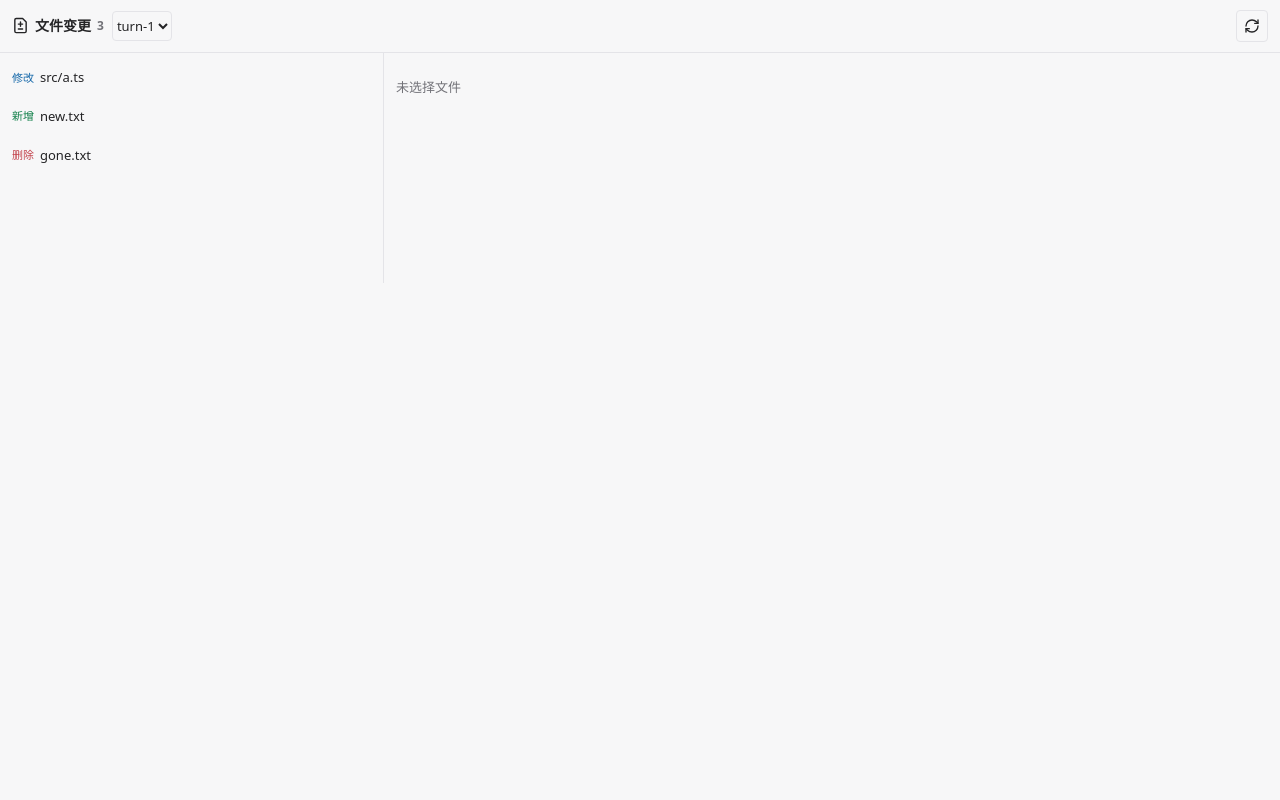
Test case: FileReview › requires explicit per-file confirmation, supports cancel, and sends immutable hash
This screenshot has width=1280, height=800.
Step 1. Click the button "修改 src/a.ts" → click(62, 77), box top-left (6, 59), bottom-right (377, 96)
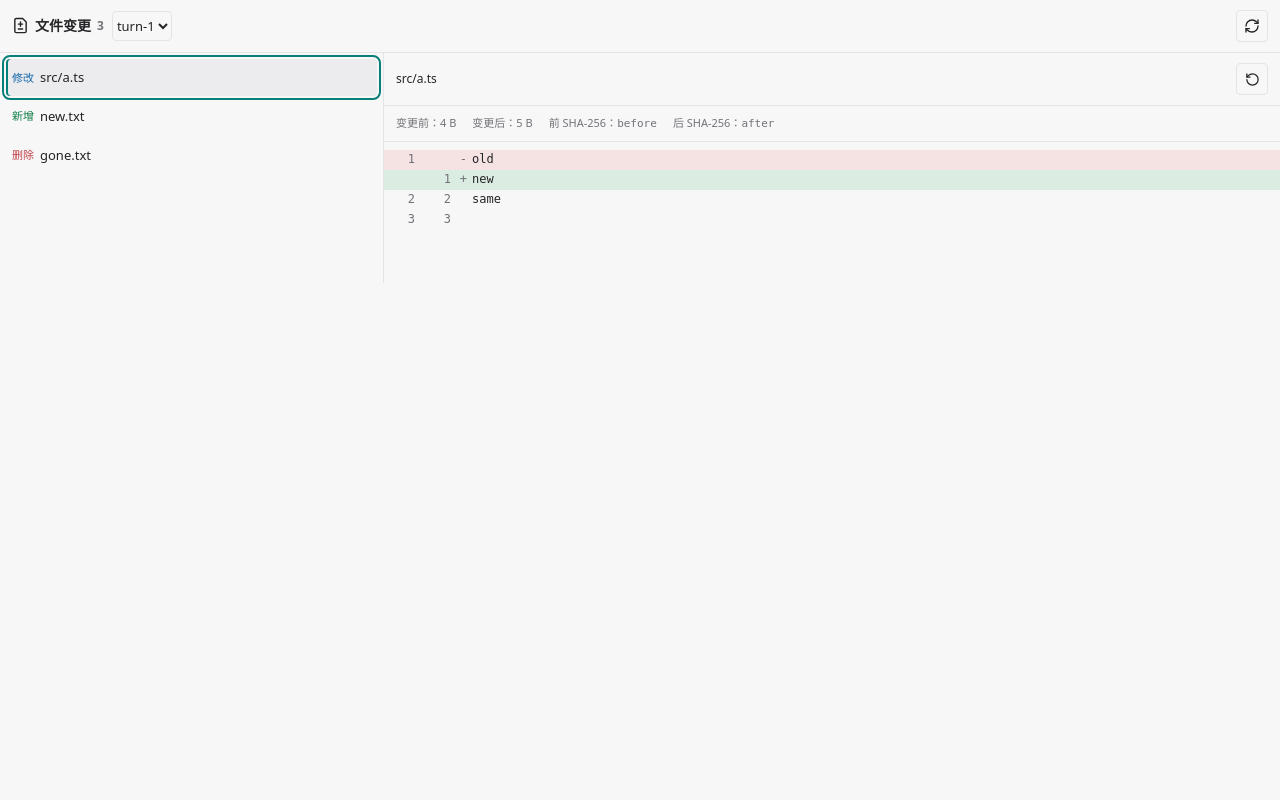
Check: the text "old" is shown, box top-left (472, 152), bottom-right (494, 166)
Step 2. Click the button named "恢复此文件" → click(1252, 79), box top-left (1236, 63), bottom-right (1268, 95)
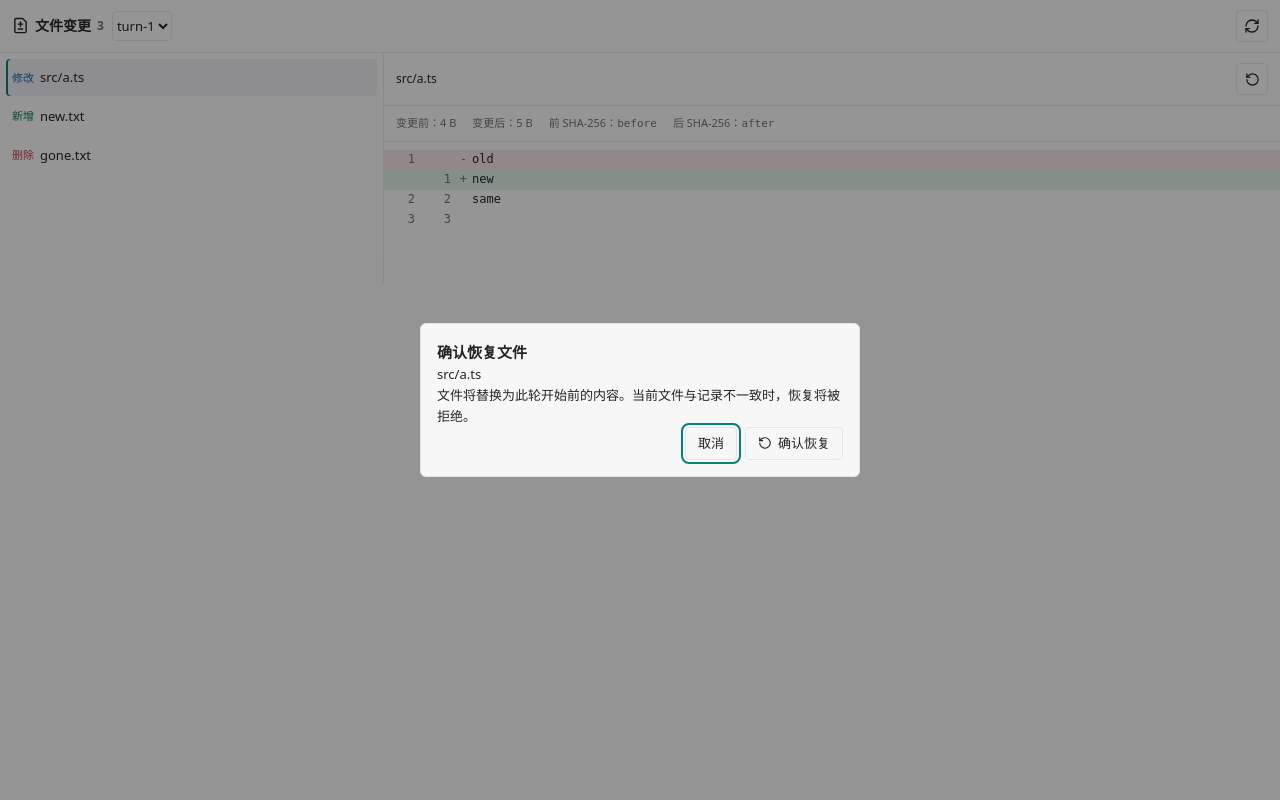
Step 3. Click the button "取消" → click(711, 443), box top-left (685, 427), bottom-right (737, 460)
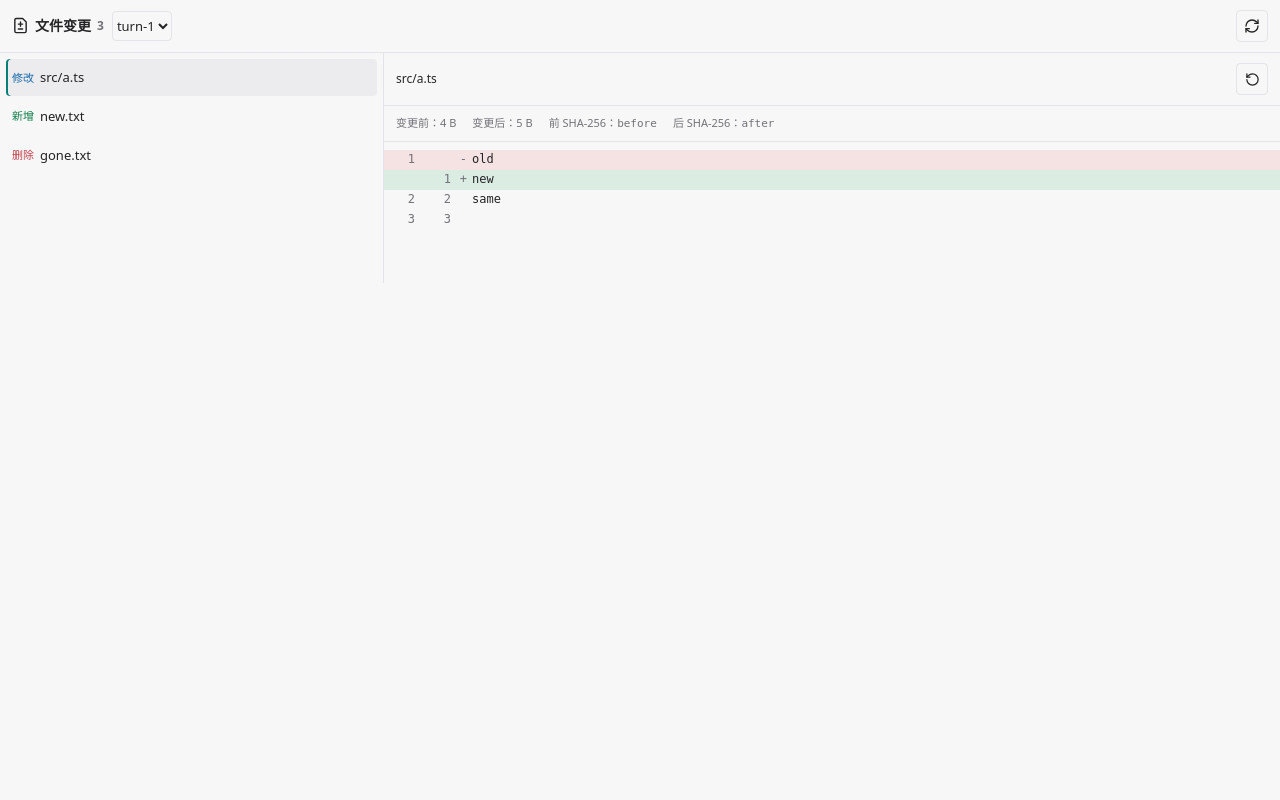
Step 4. Click the button named "恢复此文件" → click(1252, 79), box top-left (1236, 63), bottom-right (1268, 95)
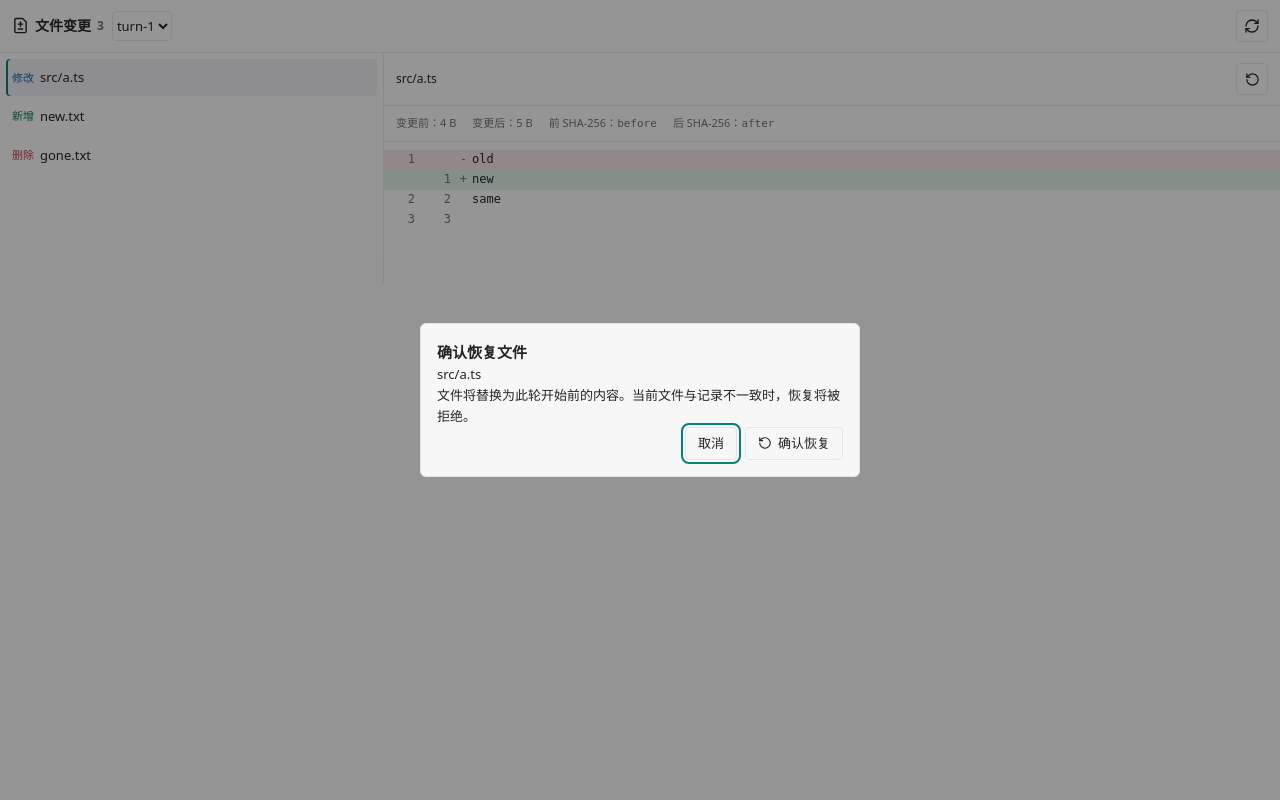
Step 5. Click the button "确认恢复" → click(794, 443), box top-left (745, 427), bottom-right (843, 460)
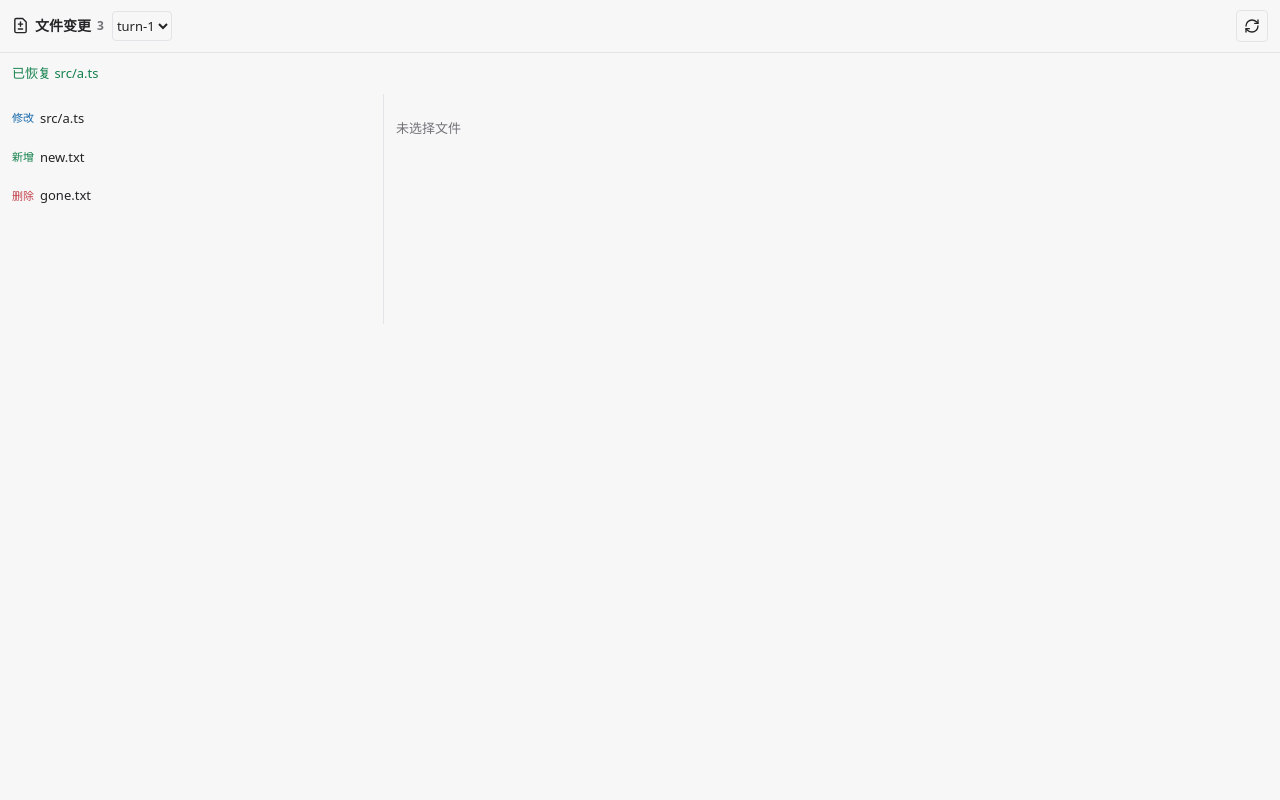
Check: the message shows "已恢复", box top-left (12, 64), bottom-right (98, 82)
